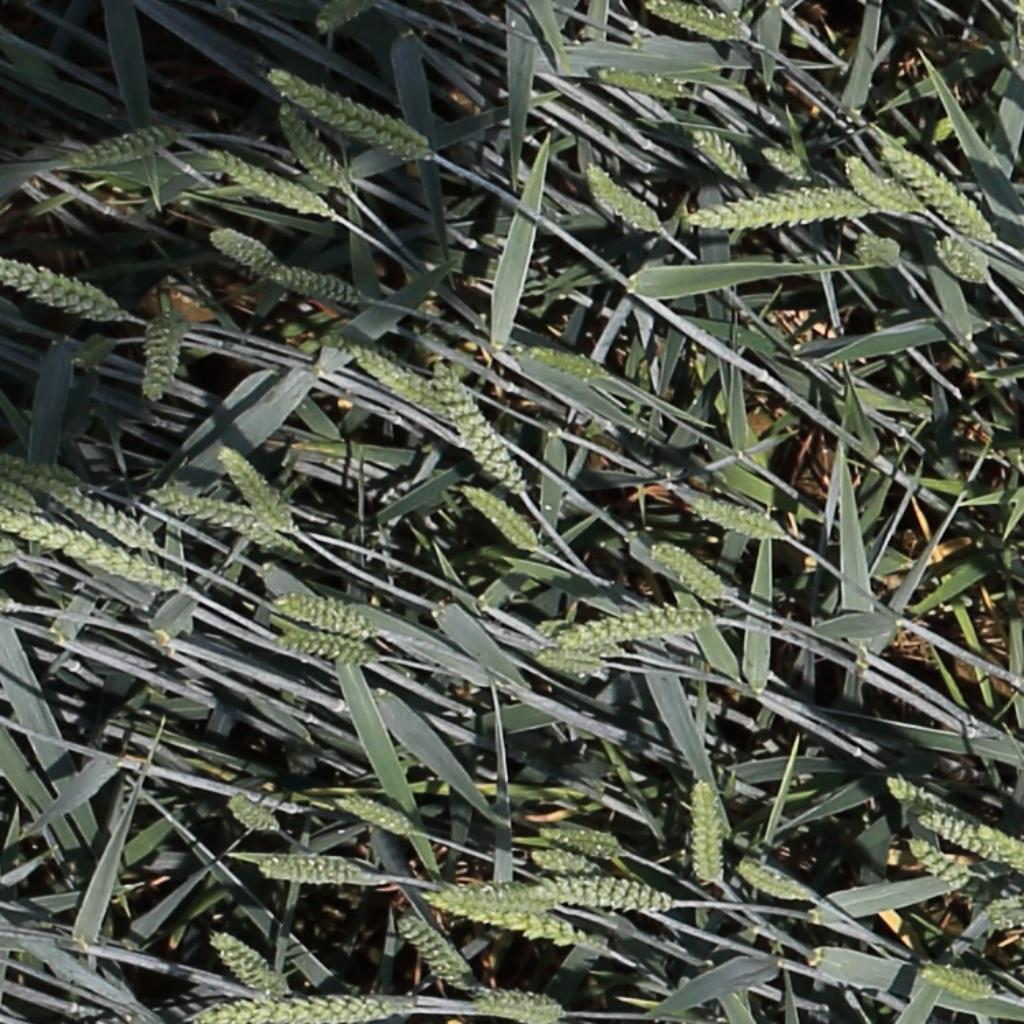0-0: (0, 512, 192, 597), (262, 71, 437, 161), (430, 360, 531, 497), (884, 146, 1002, 245), (679, 188, 876, 245), (180, 978, 402, 1024), (419, 890, 593, 948), (0, 258, 135, 326), (210, 151, 336, 220), (40, 479, 161, 550), (350, 341, 457, 421), (147, 486, 307, 538), (216, 443, 302, 537), (558, 606, 717, 651), (396, 916, 482, 994), (580, 159, 667, 236), (276, 103, 353, 189), (917, 812, 1024, 871), (207, 929, 298, 996), (250, 840, 370, 890), (584, 57, 693, 112), (460, 487, 543, 556), (63, 122, 182, 170), (841, 152, 929, 216), (271, 591, 382, 641), (884, 776, 987, 829), (692, 493, 791, 548), (135, 310, 188, 409), (650, 540, 731, 603), (554, 875, 678, 916), (686, 778, 729, 888), (644, 0, 749, 40), (1, 440, 85, 490), (444, 881, 567, 915), (267, 266, 370, 306), (536, 620, 627, 664), (210, 229, 286, 281), (278, 629, 383, 666), (334, 793, 418, 839), (904, 838, 972, 892), (921, 960, 998, 1007), (927, 235, 997, 286), (471, 986, 570, 1022), (738, 861, 817, 906), (691, 129, 753, 186), (531, 825, 626, 862), (530, 345, 615, 383), (220, 792, 285, 834), (527, 847, 613, 877), (532, 650, 608, 682), (852, 231, 906, 271), (759, 147, 818, 181), (981, 888, 1022, 933), (0, 479, 45, 513), (312, 1, 361, 30), (1, 538, 26, 569)
